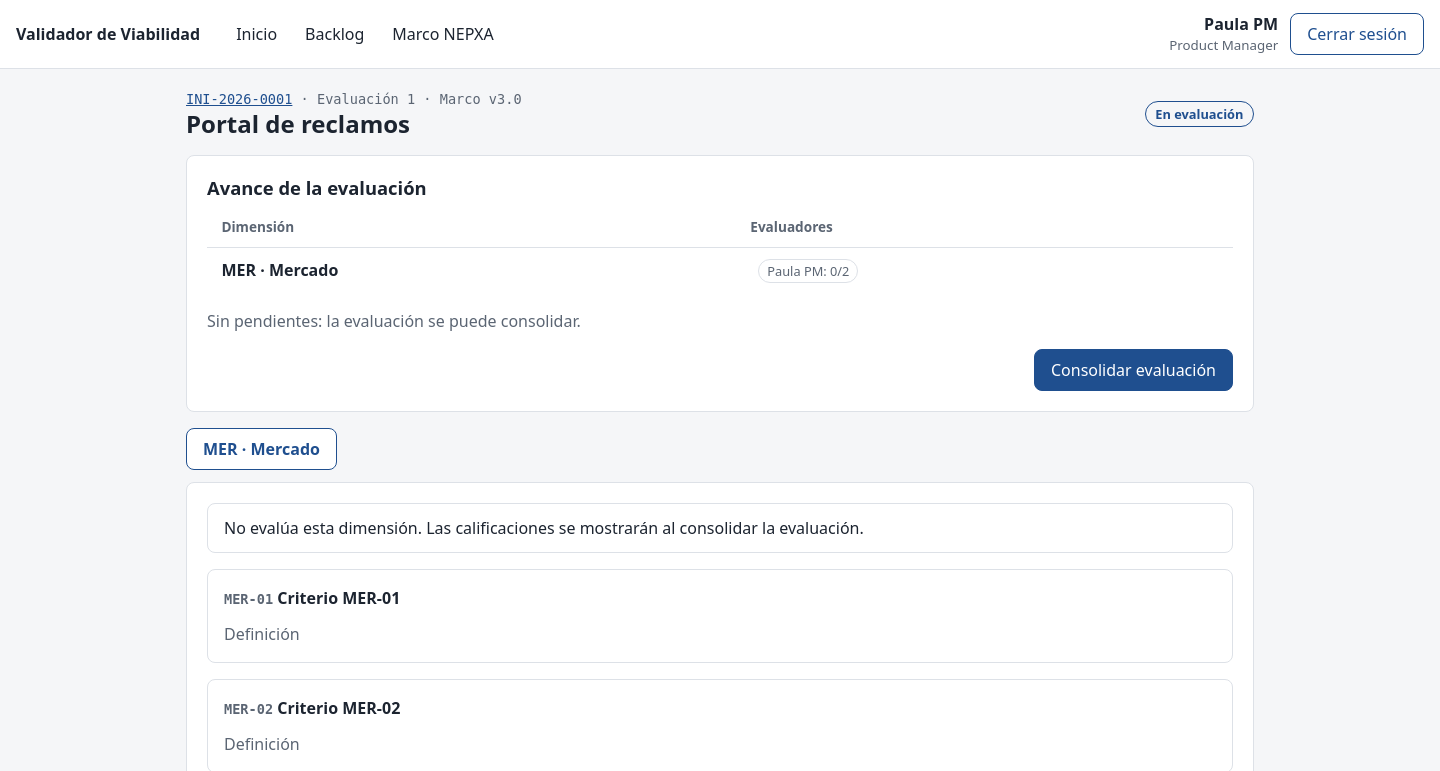
Test: consolidar se habilita sin pendientes y lleva al resumen
Click the button "Consolidar evaluación": [1134, 370] box [1034,349,1233,391]
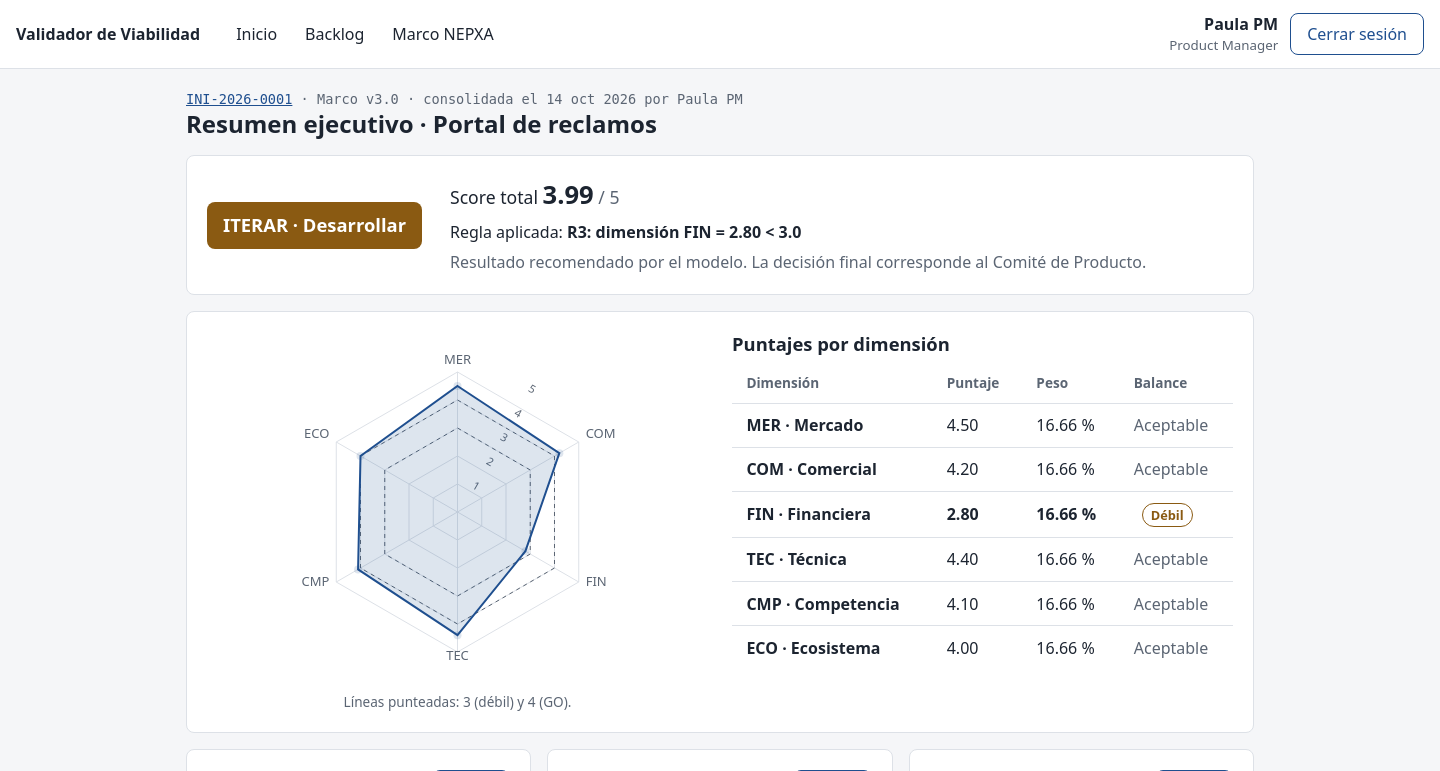
Expected: the text "ITERAR · Desarrollar" is shown, [207,202,422,249]
